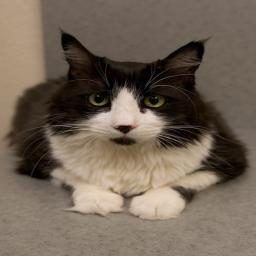catnose: (114, 124, 138, 133)
